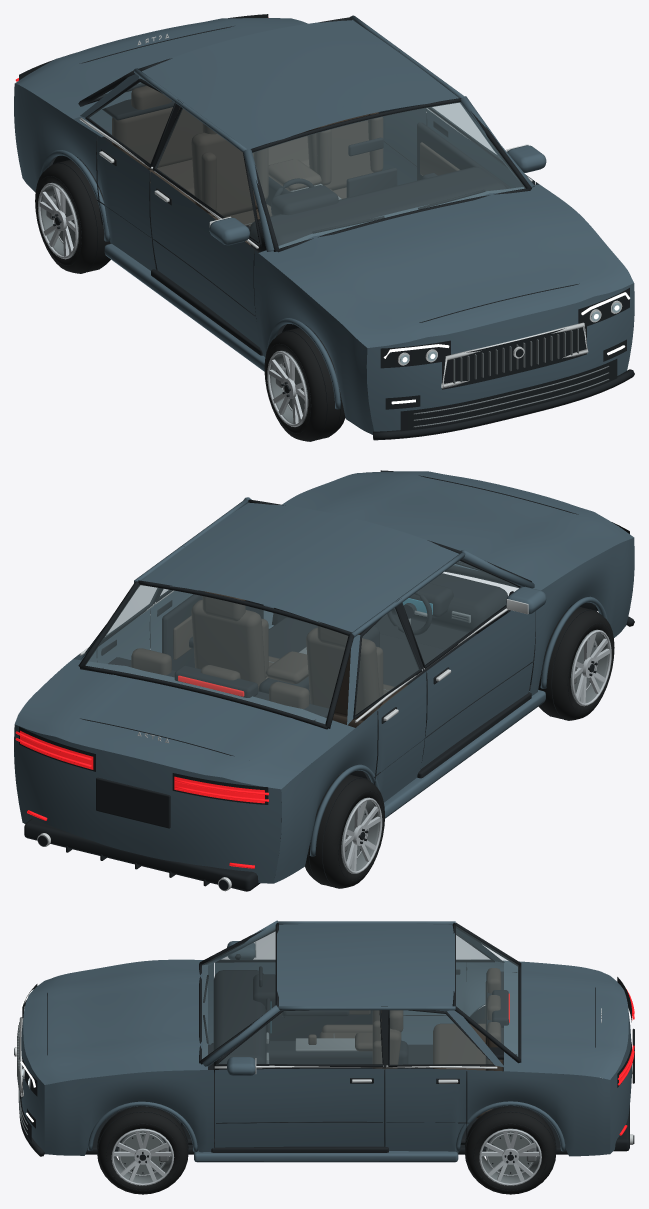
Rendered from meridian.glb.
3 renders of one model, top to bottom at view 1: azimuth 30°, elevation 25°; view 2: azimuth 150°, elevation 25°; view 3: azimuth 270°, elevation 25°, orthographic. The views are drawn at different scales.
Visible parts, largest first — view 1: body_group_upper, body_group_body, body_group_dark, body_group_glass, body_group_leather, driver_door_body, driver_door_glass, wheel_fl_spin_rubber, wheel_rl_spin_rubber, body_group_metal, wheel_fl_spin_rim, body_group_chrome (+4 smaller); view 2: body_group_upper, body_group_body, body_group_dark, body_group_glass, body_group_leather, driver_door_body, driver_door_glass, wheel_rl_spin_rubber, wheel_fl_spin_rubber, wheel_fl_spin_rim, wheel_rl_spin_rim, body_group_taillight_left (+5 smaller); view 3: body_group_body, body_group_upper, body_group_glass, body_group_dark, body_group_leather, wheel_rr_spin_rubber, wheel_fr_spin_rubber, driver_door_dark, wheel_rr_spin_rim, wheel_fr_spin_rim, wheel_rr_spin_metal, wheel_fr_spin_metal (+6 smaller).
Part boxes in pixels (left/top/right/bottom): body_group_upper: left=15, top=18, right=633, bottom=347; body_group_body: left=14, top=15, right=634, bottom=434; body_group_dark: left=19, top=14, right=634, bottom=440; body_group_glass: left=88, top=77, right=525, bottom=248; body_group_leather: left=112, top=85, right=459, bottom=245; driver_door_body: left=150, top=172, right=260, bottom=347; driver_door_glass: left=156, top=108, right=258, bottom=241; wheel_fl_spin_rubber: left=264, top=328, right=345, bottom=441; wheel_rl_spin_rubber: left=35, top=160, right=110, bottom=273; body_group_metal: left=244, top=183, right=609, bottom=427; wheel_fl_spin_rim: left=267, top=351, right=307, bottom=426; body_group_chrome: left=79, top=34, right=622, bottom=388; body_group_upper: left=15, top=471, right=633, bottom=789; body_group_body: left=14, top=497, right=634, bottom=883; body_group_dark: left=19, top=470, right=634, bottom=891; body_group_glass: left=85, top=585, right=418, bottom=723; body_group_leather: left=131, top=591, right=407, bottom=775; driver_door_body: left=420, top=586, right=546, bottom=768; driver_door_glass: left=403, top=561, right=518, bottom=664; wheel_rl_spin_rubber: left=305, top=775, right=384, bottom=888; wheel_fl_spin_rubber: left=538, top=607, right=614, bottom=720; wheel_fl_spin_rim: left=571, top=630, right=611, bottom=706; wheel_rl_spin_rim: left=342, top=797, right=382, bottom=873; body_group_taillight_left: left=174, top=776, right=268, bottom=868; body_group_body: left=21, top=920, right=631, bottom=1162; body_group_upper: left=23, top=923, right=628, bottom=1084; body_group_glass: left=202, top=926, right=518, bottom=1064; body_group_dark: left=14, top=922, right=634, bottom=1156; body_group_leather: left=308, top=968, right=502, bottom=1118; wheel_rr_spin_rubber: left=465, top=1105, right=556, bottom=1194; wheel_fr_spin_rubber: left=97, top=1106, right=188, bottom=1194; driver_door_dark: left=215, top=929, right=372, bottom=1040; wheel_rr_spin_rim: left=479, top=1129, right=541, bottom=1185; wheel_fr_spin_rim: left=111, top=1129, right=174, bottom=1185; wheel_rr_spin_metal: left=481, top=1128, right=539, bottom=1183; wheel_fr_spin_metal: left=113, top=1128, right=171, bottom=1183.
Bounding box in the file's own units: 2.26 × 1.51 × 4.68.
